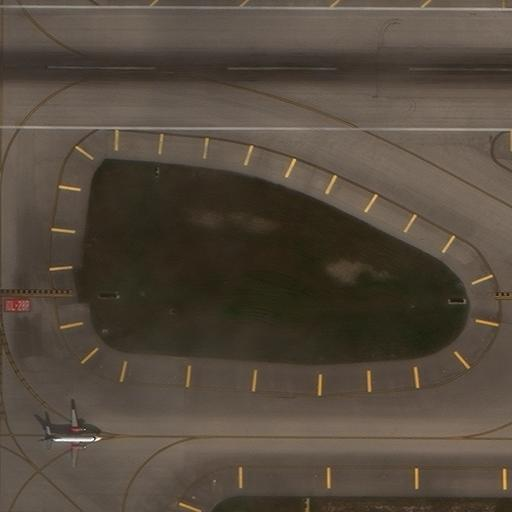Medium Civil Transport: (44, 406, 103, 468)
